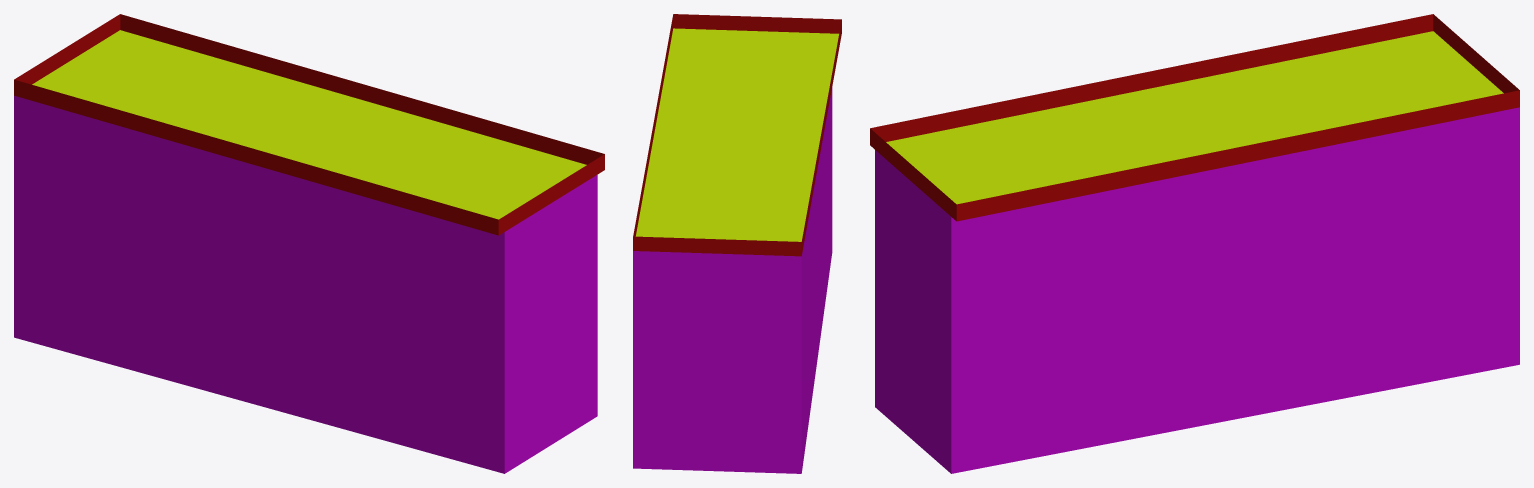
Rendered from bgj_144.glb.
3 views of the same model, side by side, from view 1: azimuth 30°, elevation 25°; view 2: azimuth 150°, elevation 25°; view 3: azimuth 270°, elevation 25° (orthographic). The views are drawn at different scales.
Parts seen in each view (by area): view 1: bgj_144; view 2: bgj_144; view 3: bgj_144.
Part boxes in pixels (x1,y1,x2,y2): bgj_144: (14, 14, 604, 473); bgj_144: (633, 14, 841, 473); bgj_144: (870, 14, 1519, 473).
Bounding box in the file's own units: 8.36 × 5.62 × 12.06.
